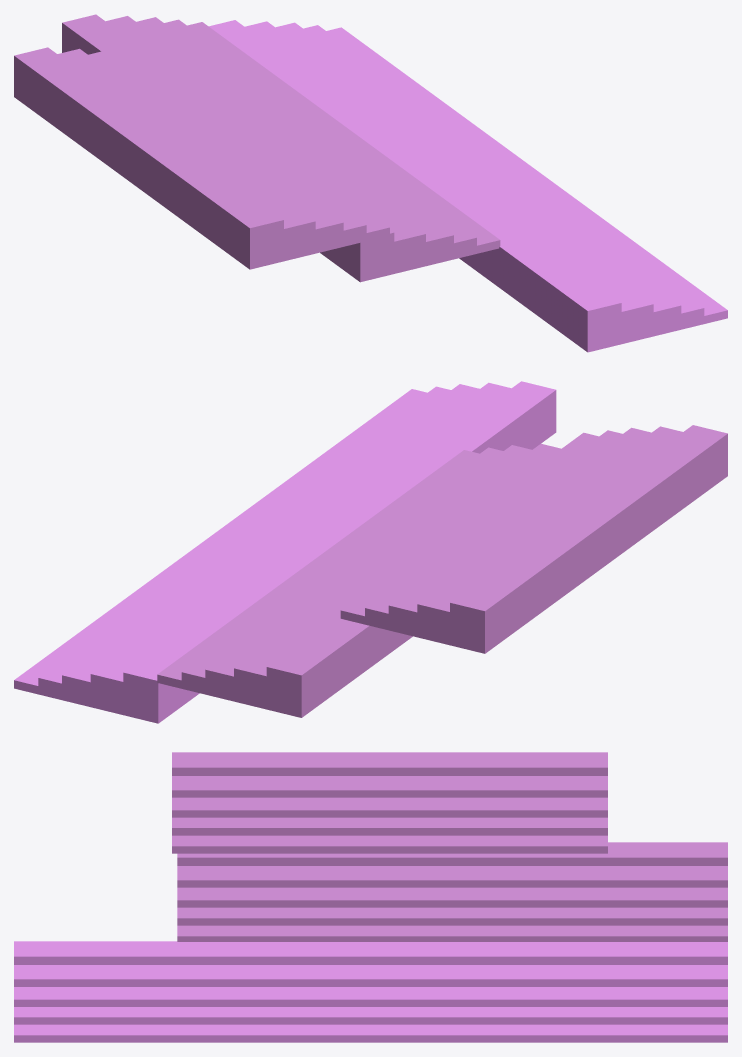
The model's file is escaleras_lab.fbx.
3 renders of one model, top to bottom at view 1: azimuth 30°, elevation 25°; view 2: azimuth 150°, elevation 25°; view 3: azimuth 270°, elevation 25°, orthographic. The views are drawn at different scales.
Visible parts, largest first — view 1: escaleras, escaleras.006, escaleras.005; view 2: escaleras, escaleras.006, escaleras.005; view 3: escaleras, escaleras.005, escaleras.006.
Part boxes in pixels (bbox=[...]): escaleras: bbox=[209, 20, 727, 352]; escaleras.006: bbox=[14, 47, 389, 269]; escaleras.005: bbox=[62, 14, 500, 282]; escaleras: bbox=[14, 381, 556, 723]; escaleras.006: bbox=[340, 425, 727, 653]; escaleras.005: bbox=[157, 443, 560, 717]; escaleras: bbox=[14, 941, 727, 1042]; escaleras.005: bbox=[177, 842, 727, 941]; escaleras.006: bbox=[172, 752, 607, 853].
Bounding box in the file's own units: 1067 × 320 × 1821.
